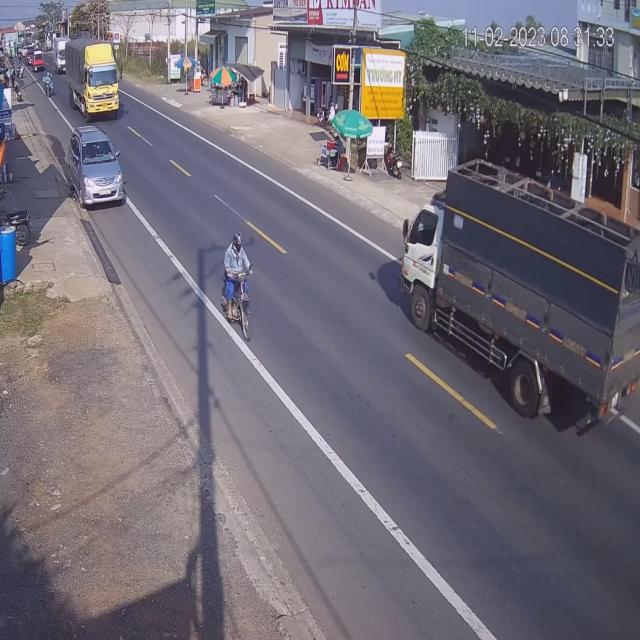car: (68, 128, 125, 210)
motorbike: (220, 231, 252, 340)
truck: (403, 157, 640, 440), (66, 40, 118, 120)
